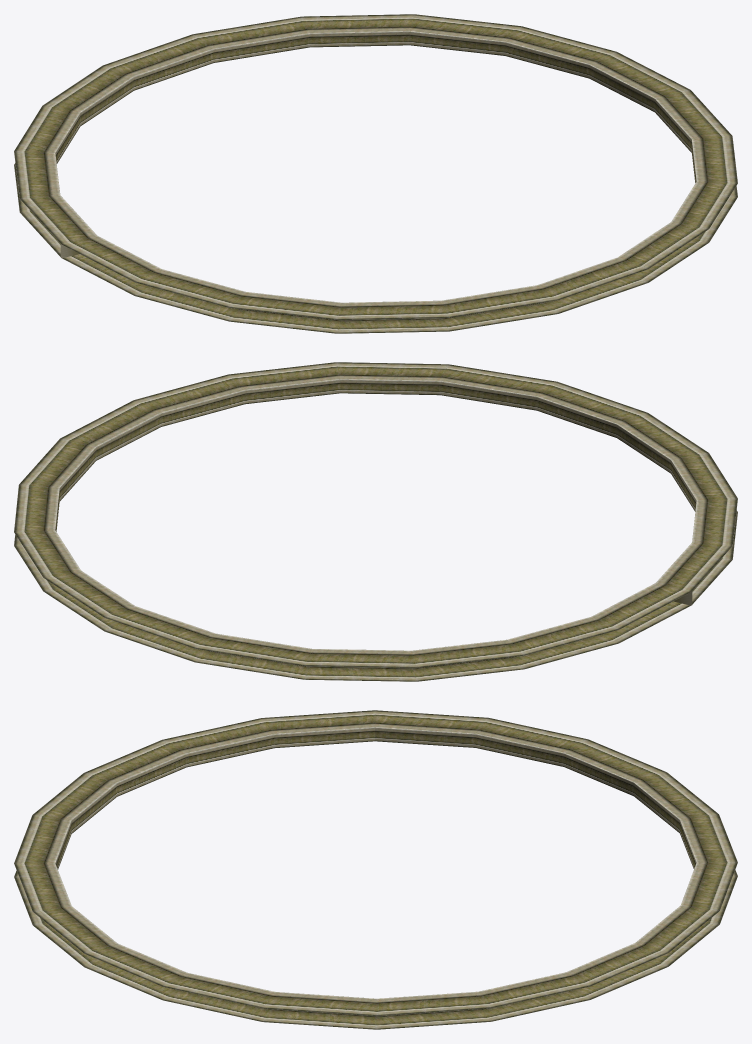
File: CH09_SMAUG_PLAYSURFACE_LAIR123.fbx
3 views of the same model, one above another, from view 1: azimuth 30°, elevation 25°; view 2: azimuth 150°, elevation 25°; view 3: azimuth 270°, elevation 25° (orthographic).
Visible parts, largest first — view 1: CH09_SMAUG_PLAYSURFACE_LAIR123; view 2: CH09_SMAUG_PLAYSURFACE_LAIR123; view 3: CH09_SMAUG_PLAYSURFACE_LAIR123.
Boxes of the visible parts, bbox=[...] form: CH09_SMAUG_PLAYSURFACE_LAIR123: bbox=[14, 14, 737, 333]; CH09_SMAUG_PLAYSURFACE_LAIR123: bbox=[14, 362, 737, 681]; CH09_SMAUG_PLAYSURFACE_LAIR123: bbox=[14, 710, 737, 1029].
Size of the model in its own units: 703885 by 14578 by 703884.
1 material, 1 textured.
